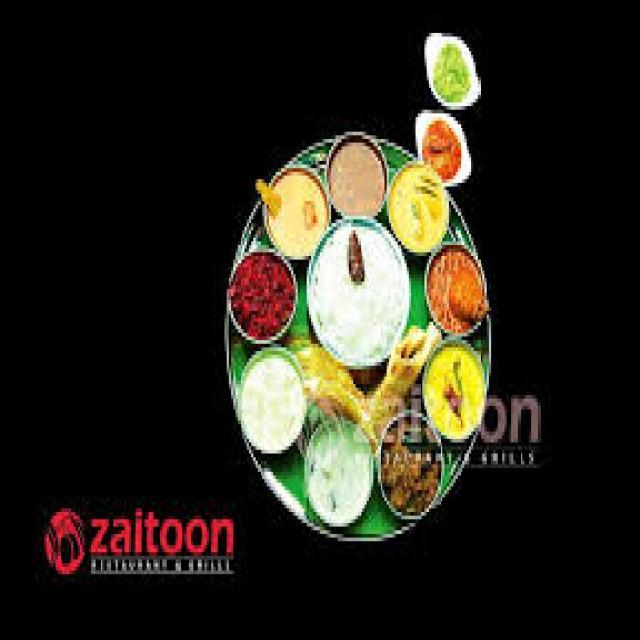rice: (304, 219, 416, 370)
sambar-rasam: (321, 130, 391, 225)
